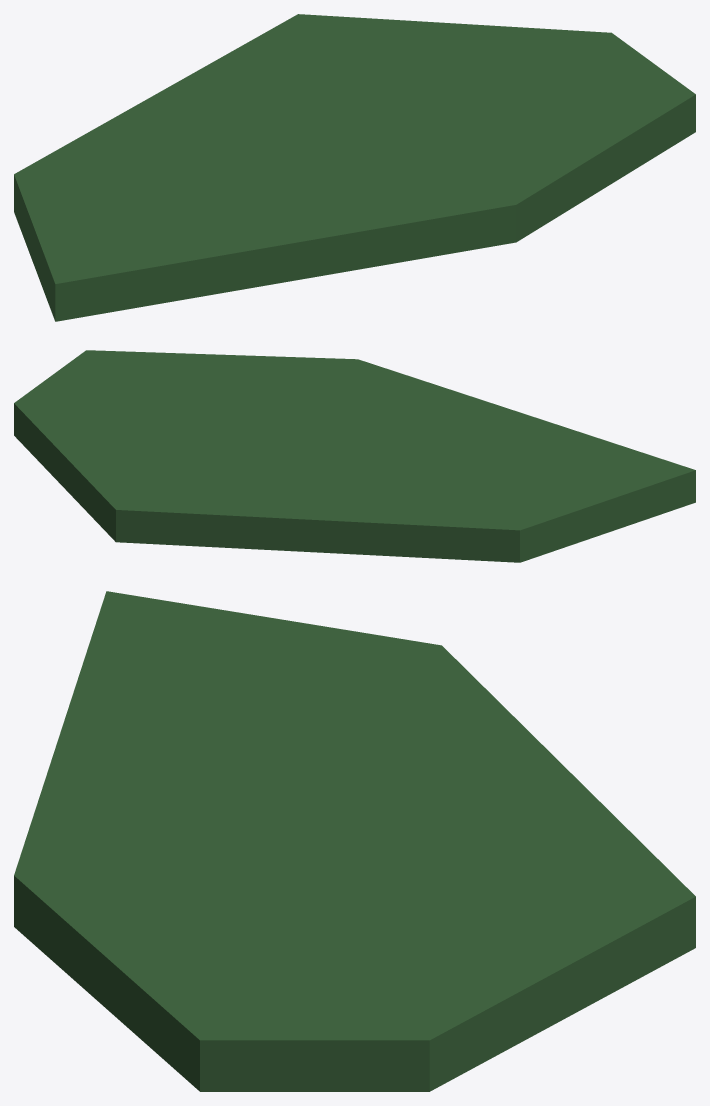
The model's file is x_proval_00_135_1_rmstrd.fbx.
3 views of the same model, one above another, from view 1: azimuth 30°, elevation 25°; view 2: azimuth 150°, elevation 25°; view 3: azimuth 270°, elevation 25° (orthographic). The views are drawn at different scales.
Visible parts, largest first — view 1: x_proval_00_135_1_rmstrd1; view 2: x_proval_00_135_1_rmstrd1; view 3: x_proval_00_135_1_rmstrd1.
Part boxes in pixels (x1,y1,x2,y2): x_proval_00_135_1_rmstrd1: (14, 14, 695, 321); x_proval_00_135_1_rmstrd1: (14, 350, 695, 562); x_proval_00_135_1_rmstrd1: (14, 591, 695, 1091).
Size of the model in its own units: 3.75 by 0.2 by 2.4.
